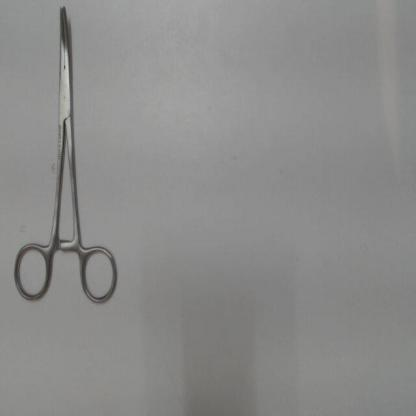Crile Artery Forceps: (2, 3, 122, 313)
